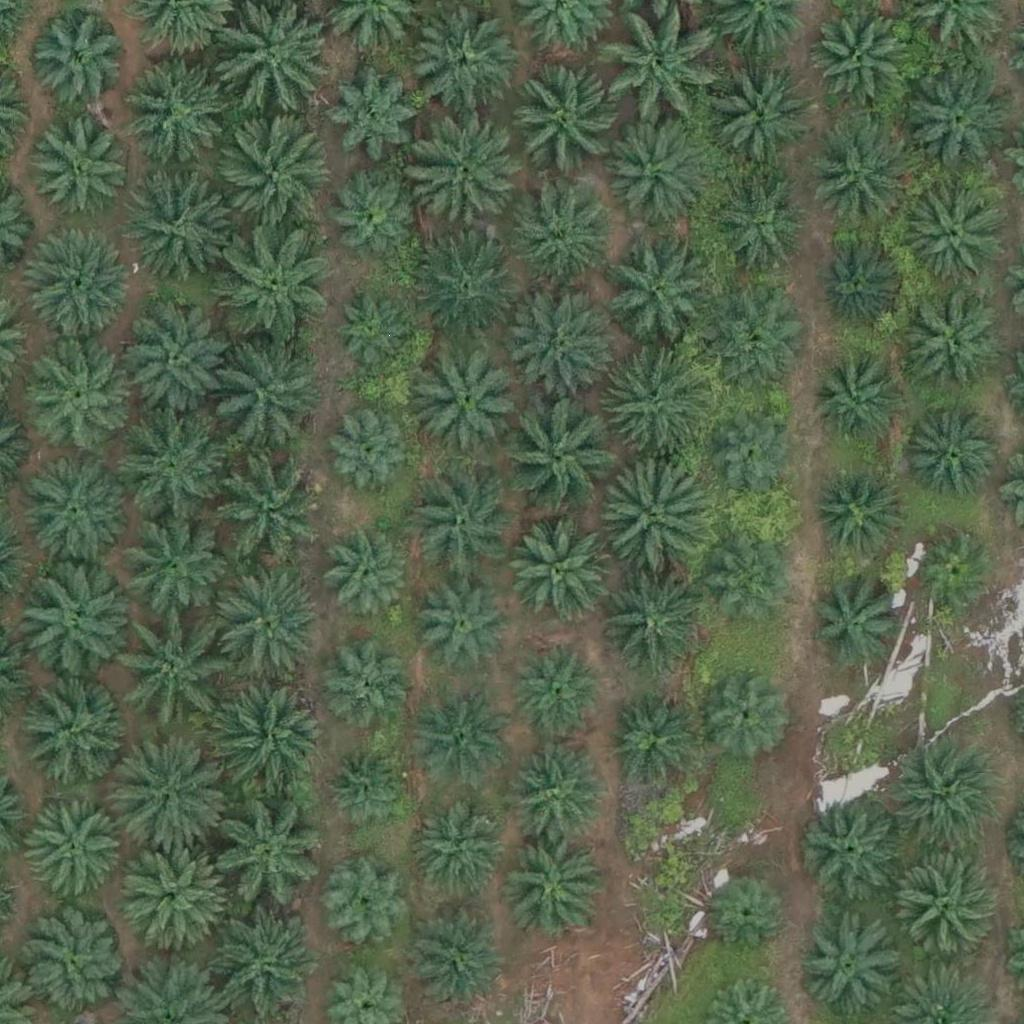Kelapa_Sawit: (117, 744, 230, 858), (405, 10, 518, 124), (123, 167, 236, 281), (215, 566, 328, 679), (211, 685, 324, 798), (204, 801, 317, 914), (11, 570, 124, 683), (598, 116, 711, 229), (602, 233, 715, 346), (595, 349, 708, 462), (508, 63, 621, 176), (222, 122, 335, 235), (116, 303, 229, 416), (123, 57, 236, 170), (22, 229, 135, 342), (903, 56, 1015, 170), (512, 515, 624, 629), (217, 227, 329, 341), (885, 744, 997, 857), (598, 576, 710, 689), (117, 839, 229, 952), (124, 614, 236, 727), (9, 675, 121, 788), (801, 119, 913, 232), (707, 63, 819, 176), (600, 12, 712, 125), (602, 462, 714, 575), (503, 394, 615, 507), (499, 285, 611, 398), (413, 124, 525, 237), (412, 226, 524, 339), (413, 345, 525, 458), (402, 466, 514, 579), (219, 5, 331, 118), (208, 337, 320, 450), (213, 447, 325, 560), (115, 502, 227, 615), (114, 411, 226, 524), (21, 458, 133, 571), (507, 747, 607, 848), (503, 839, 603, 940), (408, 795, 508, 896), (409, 904, 509, 1005), (23, 801, 123, 902), (23, 913, 123, 1014), (902, 406, 1002, 507), (808, 574, 908, 675), (702, 294, 802, 395), (514, 190, 614, 291), (325, 67, 425, 168), (25, 12, 125, 113), (33, 116, 133, 217), (29, 353, 129, 454), (895, 845, 995, 945), (803, 801, 903, 901), (415, 569, 515, 669), (410, 698, 510, 798), (905, 192, 1005, 292), (902, 296, 1002, 396), (807, 12, 907, 112), (712, 180, 812, 280), (701, 676, 789, 764), (513, 643, 601, 731), (325, 853, 413, 941), (817, 238, 905, 326), (814, 475, 902, 563), (704, 871, 791, 959), (609, 699, 696, 787), (323, 745, 410, 833), (323, 640, 410, 728), (809, 355, 896, 443), (710, 410, 797, 498), (706, 526, 793, 614), (326, 528, 413, 616), (326, 404, 413, 492), (337, 171, 424, 259), (335, 294, 410, 370), (920, 529, 995, 605)
